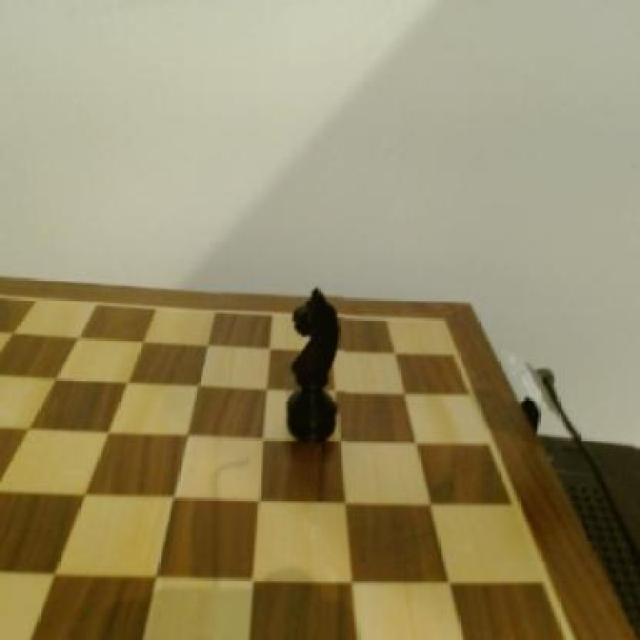black-king: (284, 282, 346, 450)
